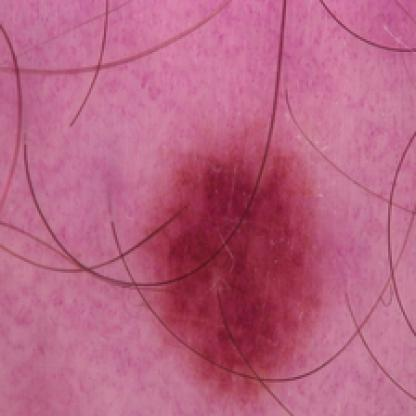benign: (148, 147, 346, 392)
